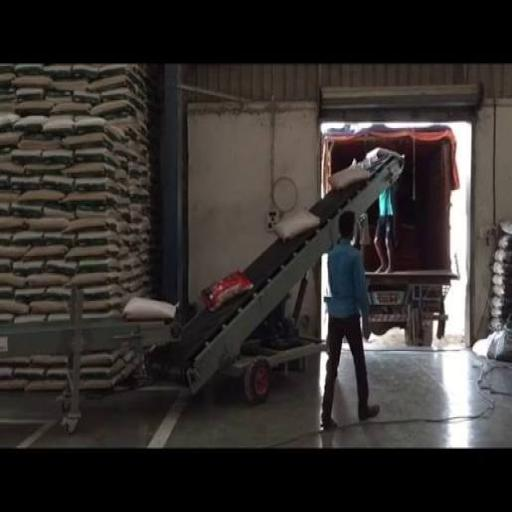c-belt-sack-count: (202, 271, 253, 310), (274, 210, 319, 240), (122, 297, 176, 319)
